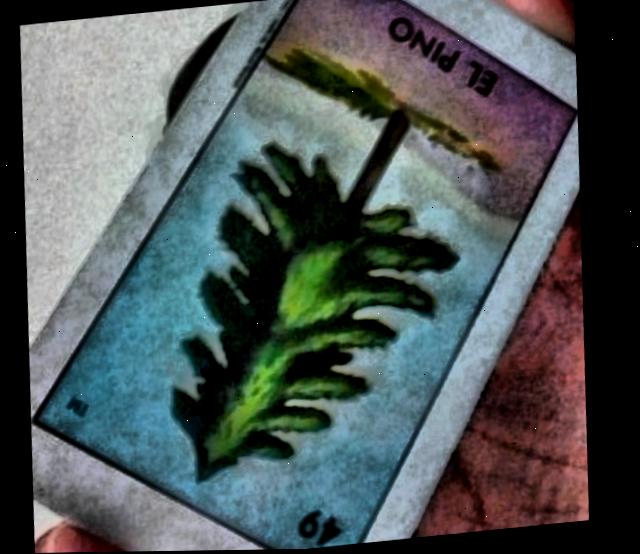El Pino: (44, 0, 578, 550)
